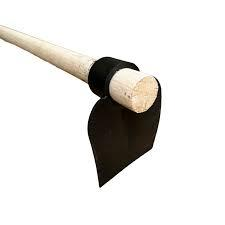HOUE: (0, 2, 225, 193)
